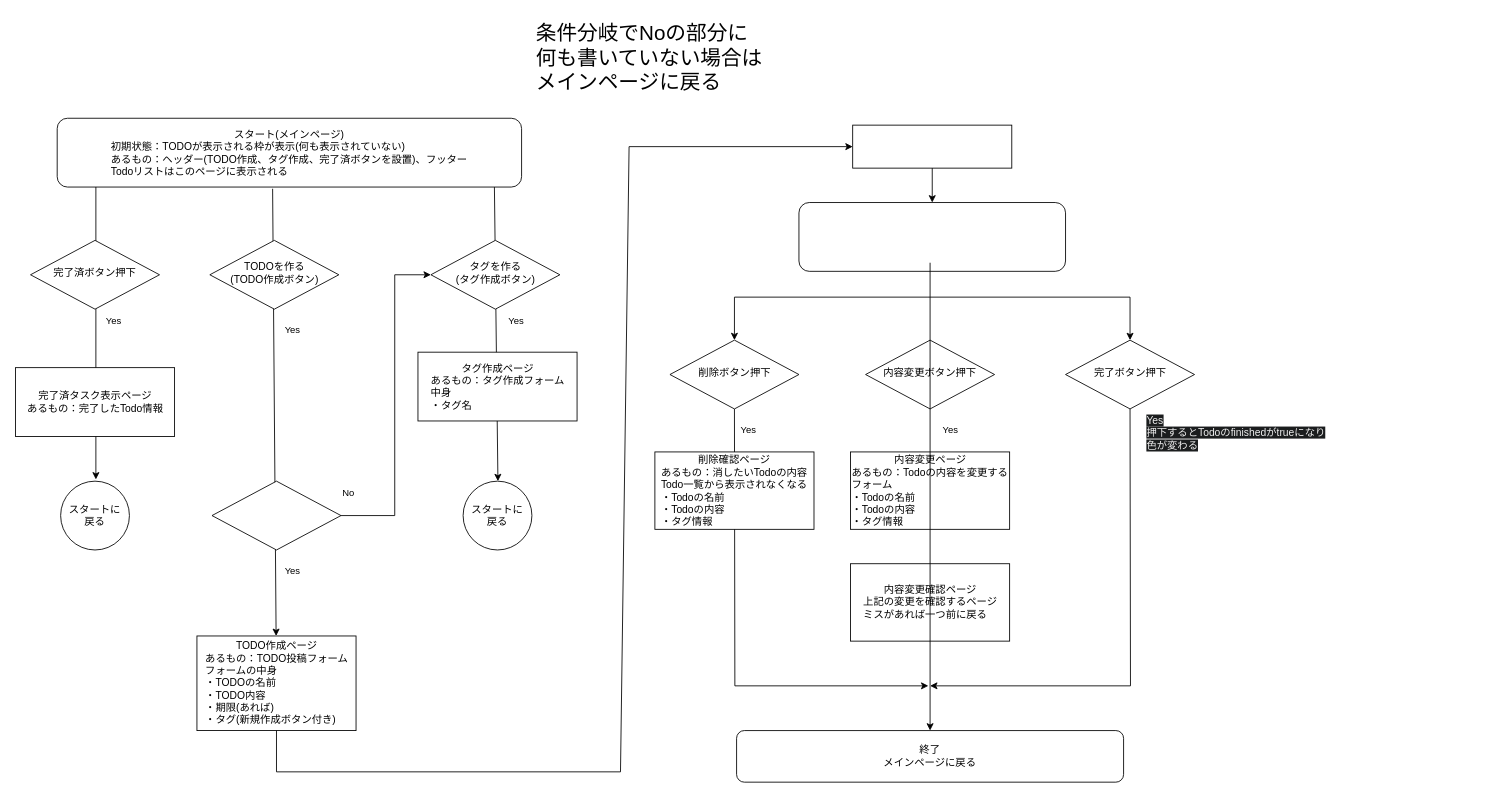
This 1495x797 diagram has some shape labels left out. The shapes that lost their labels are listed below. From the top down, each one's centre as x and y in pixels, then its label:
At point 932,146: "TODO作成確認ページ あるもの：打ち込んだ内容".
At point 932,236: "メインページ TODOの一覧が表示される あるもの：枠内にTODO一覧が表示 ・タスクバー(変更・完了・削除ボタン)".
At point 276,515: "タグがあるか".
